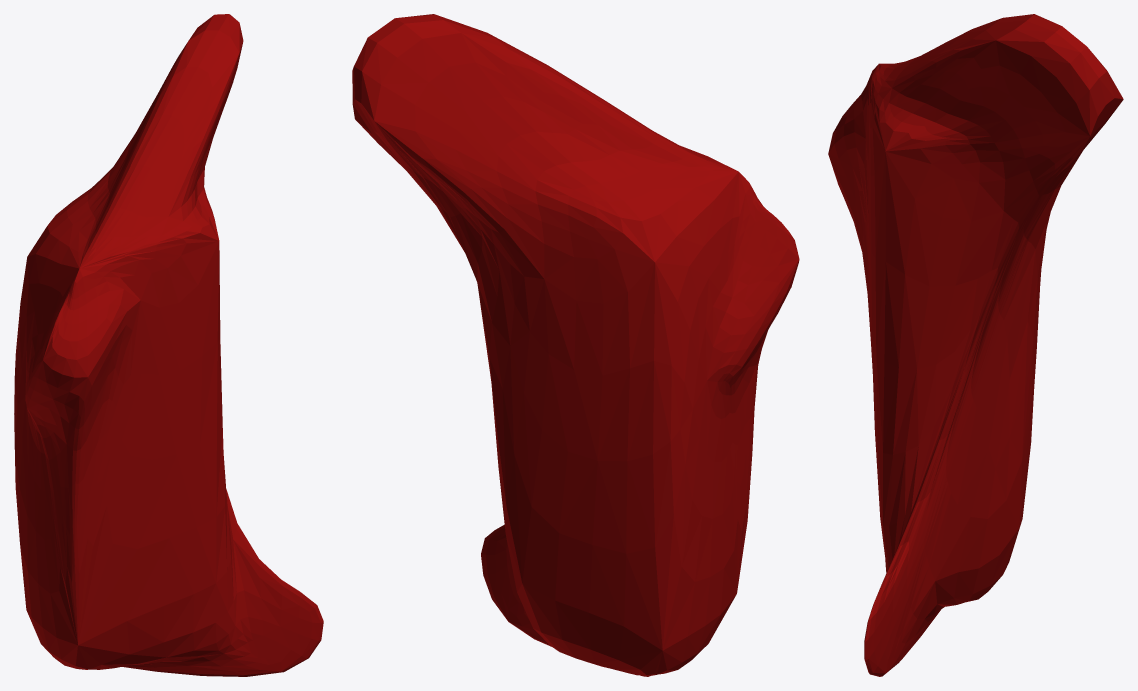
3 renders of one model, left to right at view 1: azimuth 30°, elevation 25°; view 2: azimuth 150°, elevation 25°; view 3: azimuth 270°, elevation 25°, orthographic. The views are drawn at different scales.
Parts seen in each view (by area): view 1: 780_Cube.3144; view 2: 780_Cube.3144; view 3: 780_Cube.3144.
Boxes of the visible parts, x1=… form: 780_Cube.3144: x1=14, y1=14, x2=323, y2=676; 780_Cube.3144: x1=352, y1=14, x2=799, y2=676; 780_Cube.3144: x1=828, y1=14, x2=1123, y2=676.
Size of the model in its own units: 8.61 by 16.52 by 6.7.
